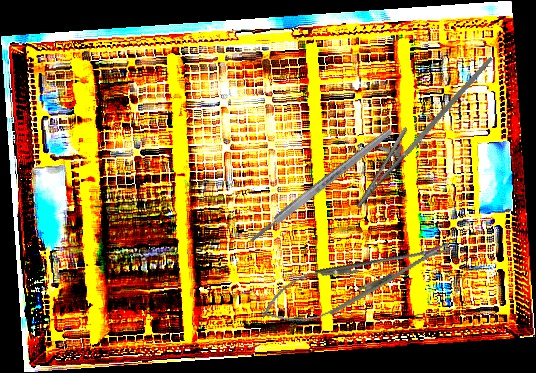Needle Holder: (342, 34, 495, 223), (253, 224, 459, 338)
Scalpel Handle: (247, 126, 395, 245)
